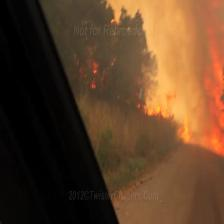fire: (179, 0, 224, 158)
